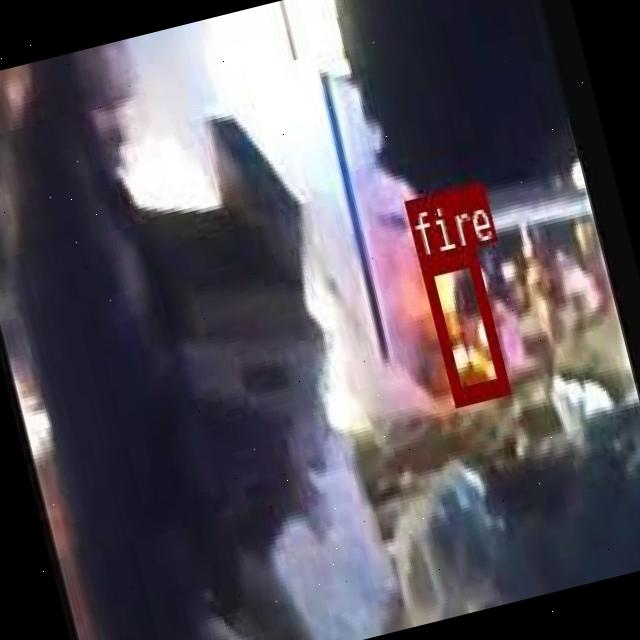fire: (416, 243, 508, 404)
